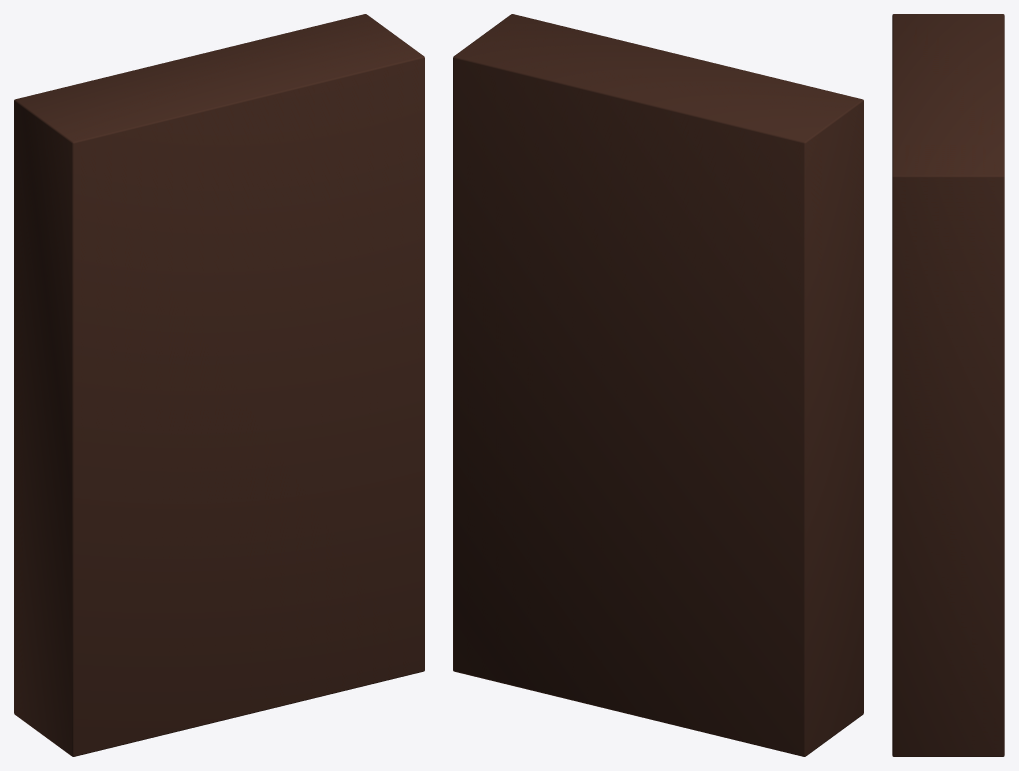
File: fur_bookshelf.glb
The picture shows the model from 3 angles, left to right: view 1: azimuth 30°, elevation 25°; view 2: azimuth 150°, elevation 25°; view 3: azimuth 270°, elevation 25°; orthographic projection. The views are drawn at different scales.
Visible parts, largest first — view 1: FUR_bookshelf; view 2: FUR_bookshelf; view 3: FUR_bookshelf.
Part boxes in pixels (x1,y1,x2,y2): FUR_bookshelf: [14, 14, 424, 756]; FUR_bookshelf: [453, 14, 863, 756]; FUR_bookshelf: [892, 14, 1004, 756].
Size of the model in its own units: 1.2 by 2 by 0.35.
1 material, 1 textured.
